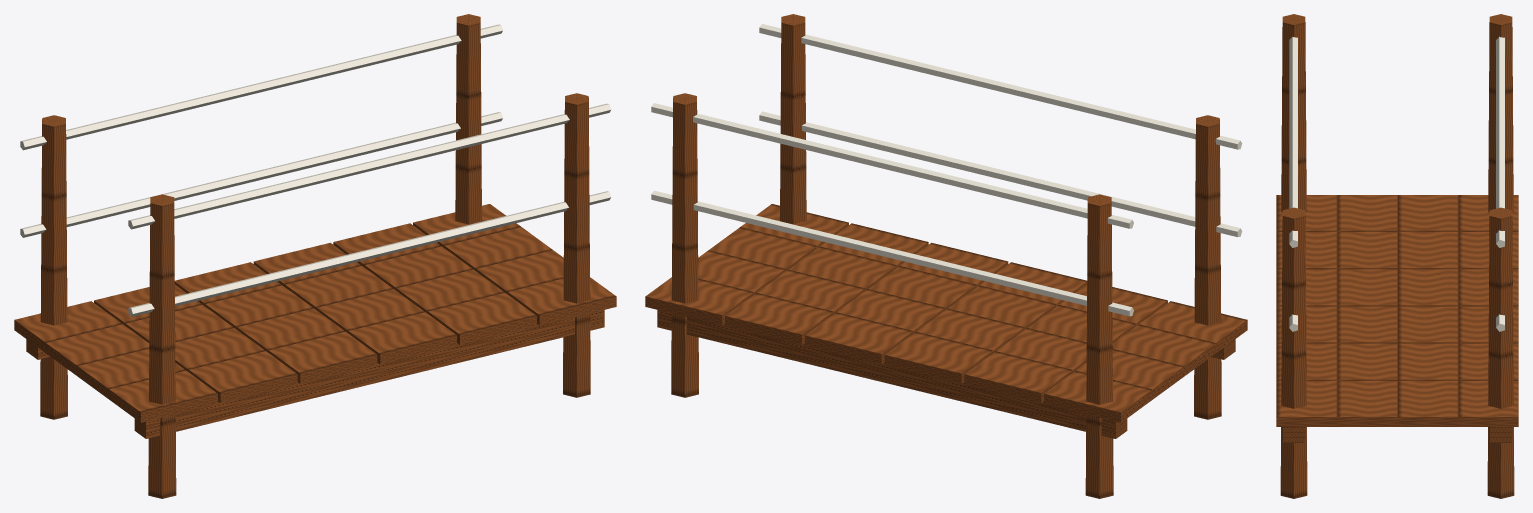
Rendered from safari-camp-and-bush-lodge-raised-walkway-section-1ae12576__37679.glb.
3 views of the same model, side by side, from view 1: azimuth 30°, elevation 25°; view 2: azimuth 150°, elevation 25°; view 3: azimuth 270°, elevation 25° (orthographic). The views are drawn at different scales.
Parts seen in each view (by area): view 1: raised-walkway-section-timber, raised-walkway-section-canvas; view 2: raised-walkway-section-timber, raised-walkway-section-canvas; view 3: raised-walkway-section-timber, raised-walkway-section-canvas.
Boxes of the visible parts, x1,y1,x2,y2 form: raised-walkway-section-timber: (14,14,616,498); raised-walkway-section-canvas: (20,24,611,316); raised-walkway-section-timber: (645,14,1247,498); raised-walkway-section-canvas: (651,24,1242,316); raised-walkway-section-timber: (1276,14,1518,498); raised-walkway-section-canvas: (1289,36,1504,331).
Size of the model in its own units: 2.4 by 1.4 by 1.1.
2 materials, 1 textured.
